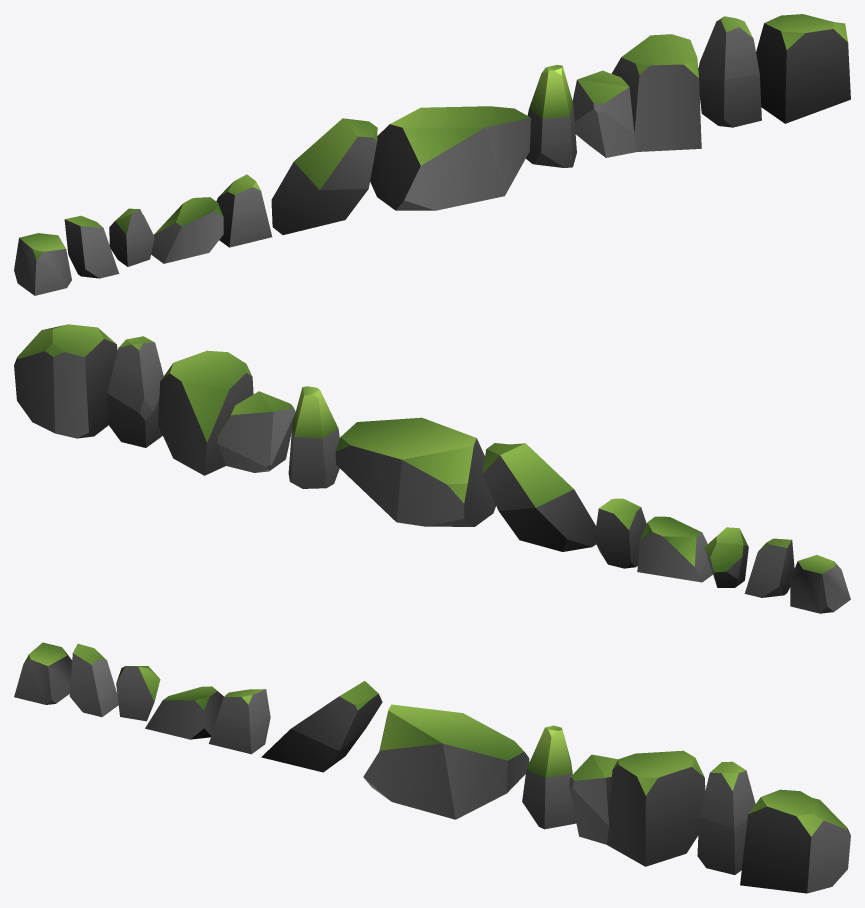
The model's file is Batu.fbx.
3 views of the same model, one above another, from view 1: azimuth 30°, elevation 25°; view 2: azimuth 150°, elevation 25°; view 3: azimuth 330°, elevation 25° (orthographic).
Parts seen in each view (by area): view 1: Cube.018, Cube.014, Cube.013, Cube.007, Cube.010, Cube.017, Cube.020, Cube.006, Cube.019, Cube.022, Cube.021; view 2: Cube.018, Cube.014, Cube.013, Cube.007, Cube.010, Cube.017, Cube.020, Cube.019, Cube.006, Cube.022, Cube.021; view 3: Cube.018, Cube.014, Cube.013, Cube.007, Cube.010, Cube.017, Cube.019, Cube.020, Cube.006, Cube.022, Cube.021.
Boxes of the visible parts, <box> form: Cube.018: <box>370,106,530,210</box>; Cube.014: <box>572,34,701,157</box>; Cube.013: <box>756,14,850,123</box>; Cube.007: <box>271,118,377,234</box>; Cube.010: <box>698,16,761,127</box>; Cube.017: <box>526,65,576,167</box>; Cube.020: <box>151,197,223,263</box>; Cube.006: <box>14,233,71,295</box>; Cube.019: <box>216,174,272,247</box>; Cube.022: <box>64,215,119,278</box>; Cube.021: <box>109,208,154,266</box>; Cube.018: <box>335,417,495,526</box>; Cube.014: <box>158,350,295,475</box>; Cube.013: <box>14,324,117,438</box>; Cube.007: <box>482,443,596,551</box>; Cube.010: <box>107,336,163,447</box>; Cube.017: <box>288,386,339,488</box>; Cube.020: <box>637,516,712,582</box>; Cube.019: <box>594,498,646,568</box>; Cube.006: <box>790,555,850,613</box>; Cube.022: <box>744,538,794,597</box>; Cube.021: <box>704,527,748,587</box>; Cube.018: <box>363,704,529,819</box>; Cube.014: <box>569,750,705,866</box>; Cube.013: <box>740,789,850,893</box>; Cube.007: <box>261,681,382,772</box>; Cube.010: <box>697,761,755,874</box>; Cube.017: <box>522,725,576,829</box>; Cube.019: <box>209,689,270,754</box>; Cube.020: <box>145,686,223,739</box>; Cube.006: <box>14,642,72,704</box>; Cube.022: <box>69,643,118,716</box>; Cube.021: <box>116,666,160,721</box>.
Bounding box in the file's own units: 1935 × 221 × 221.
